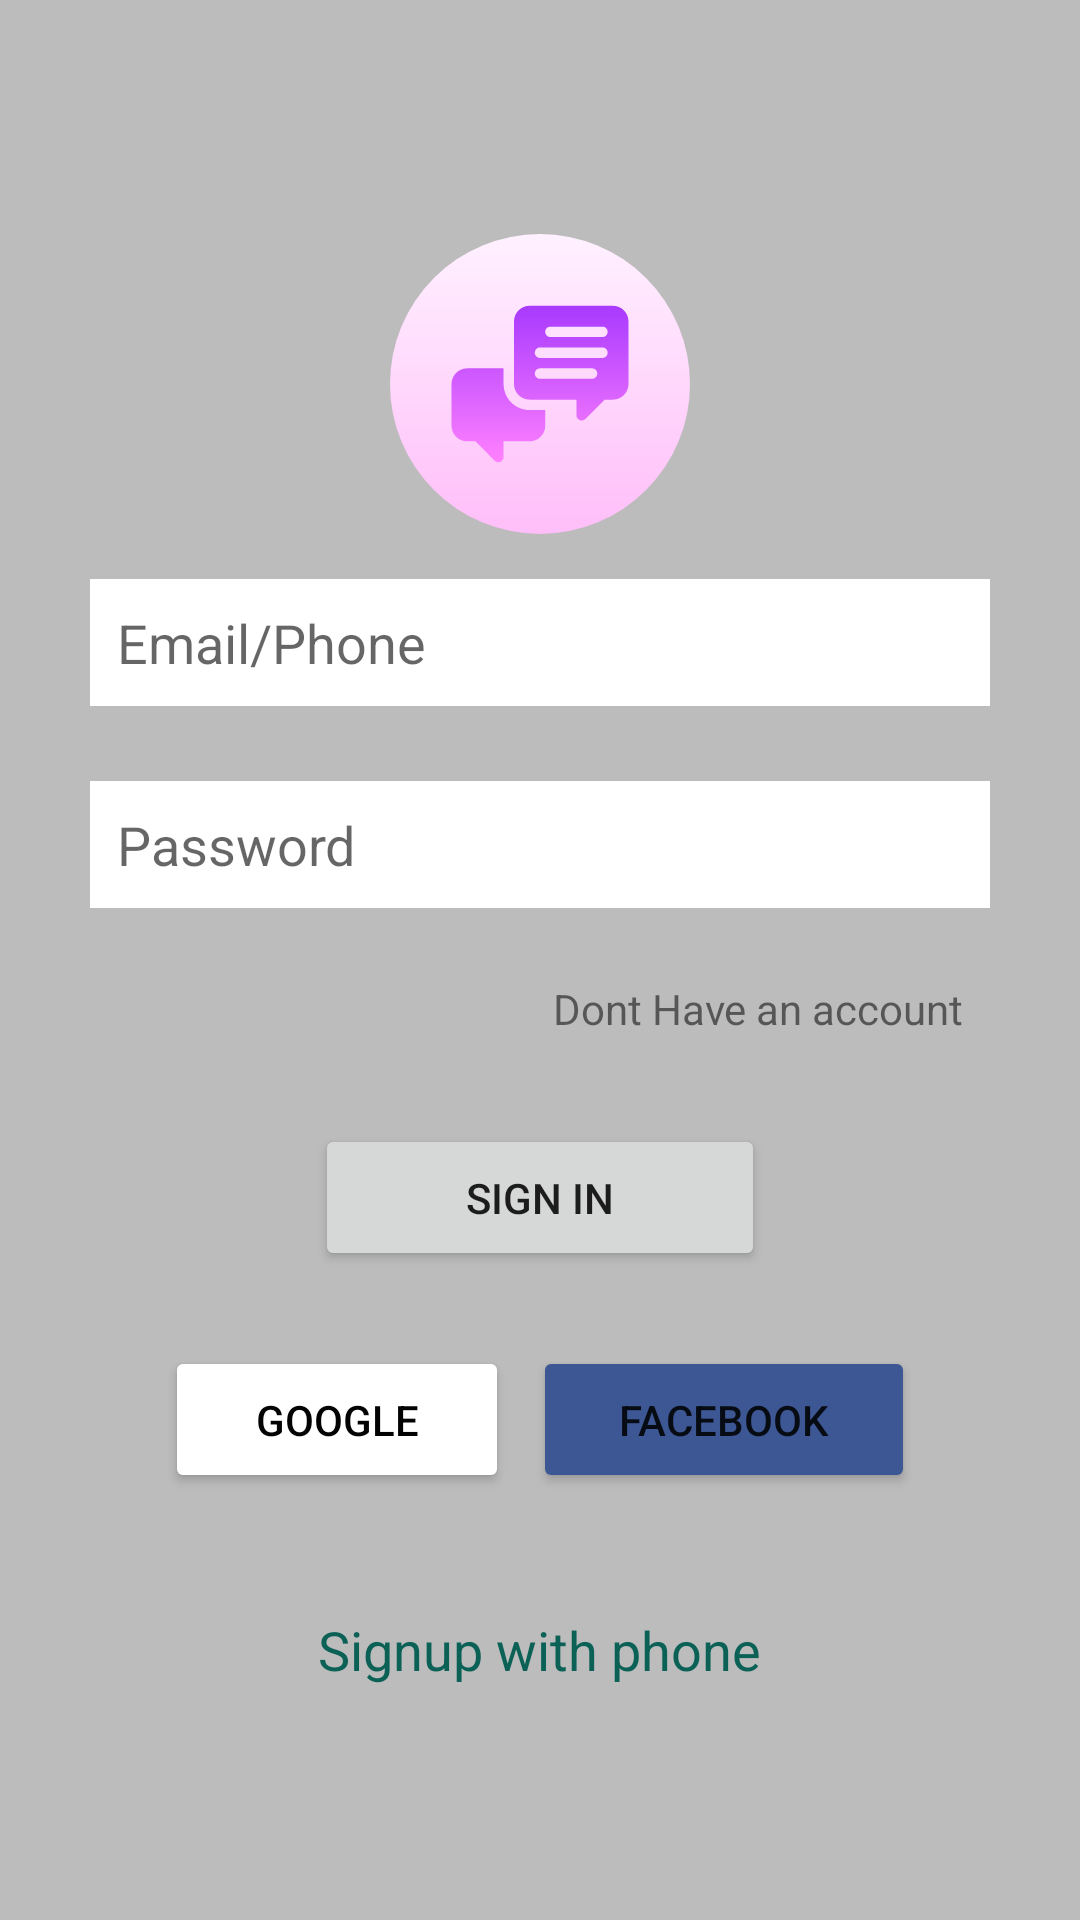

Locate icon controls on the screen. Image size 1080px×1920px, boxes as BBox(x1, y1, x2, y2).
chat: BBox(390, 234, 690, 534)
